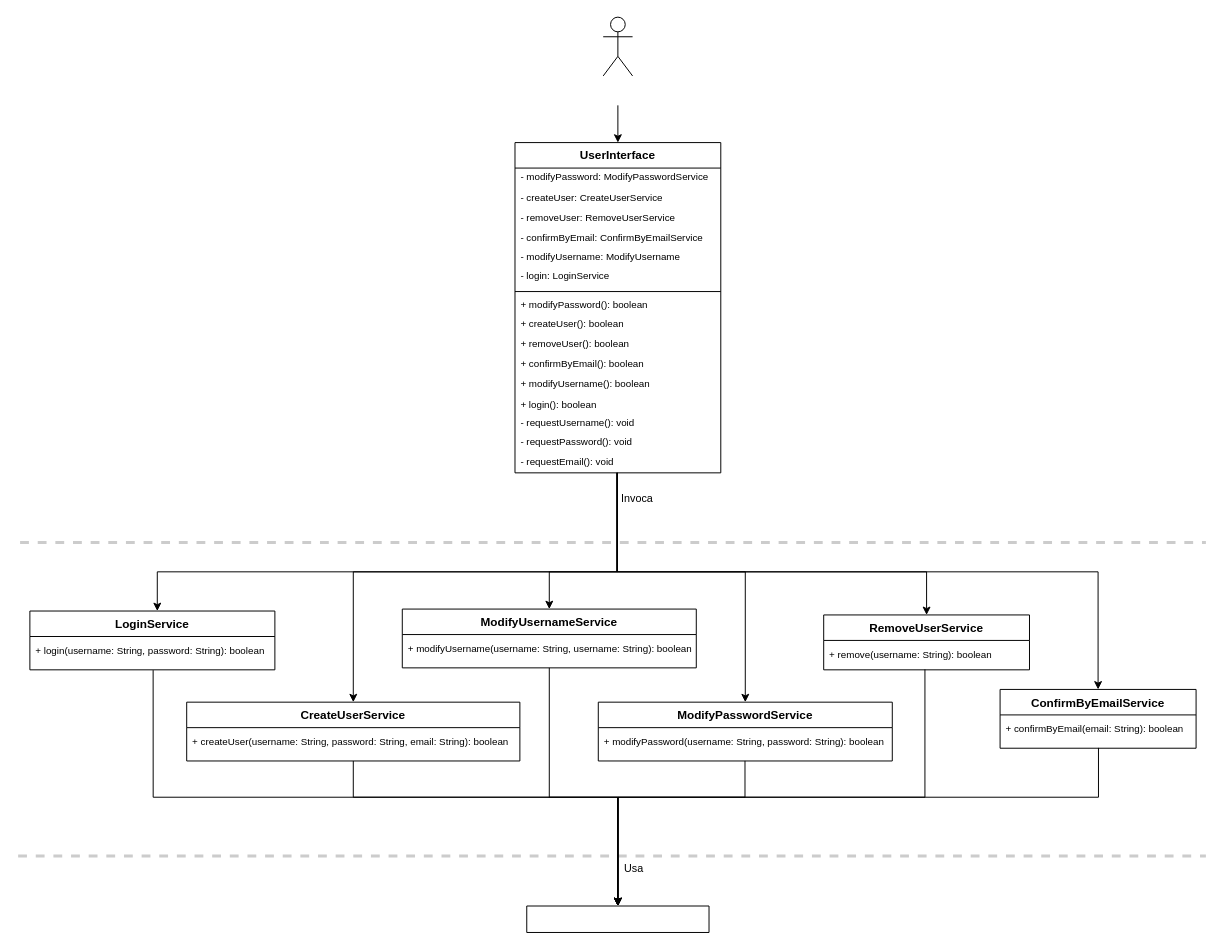
Some shapes in this 1225 by 950 pixel diagram are drawn without their labels. The centre of each missing label's shape, as x and y in pixels:
Database: point (617, 918)
User: point (617, 46)
